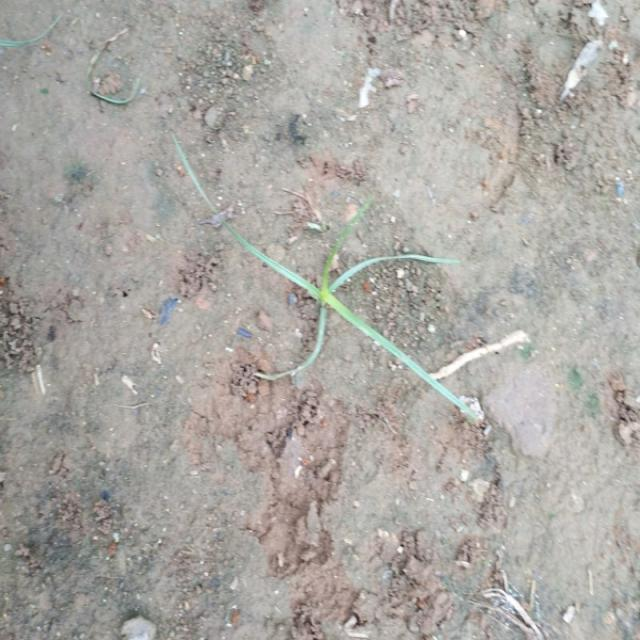sedge: (202, 128, 474, 475)
